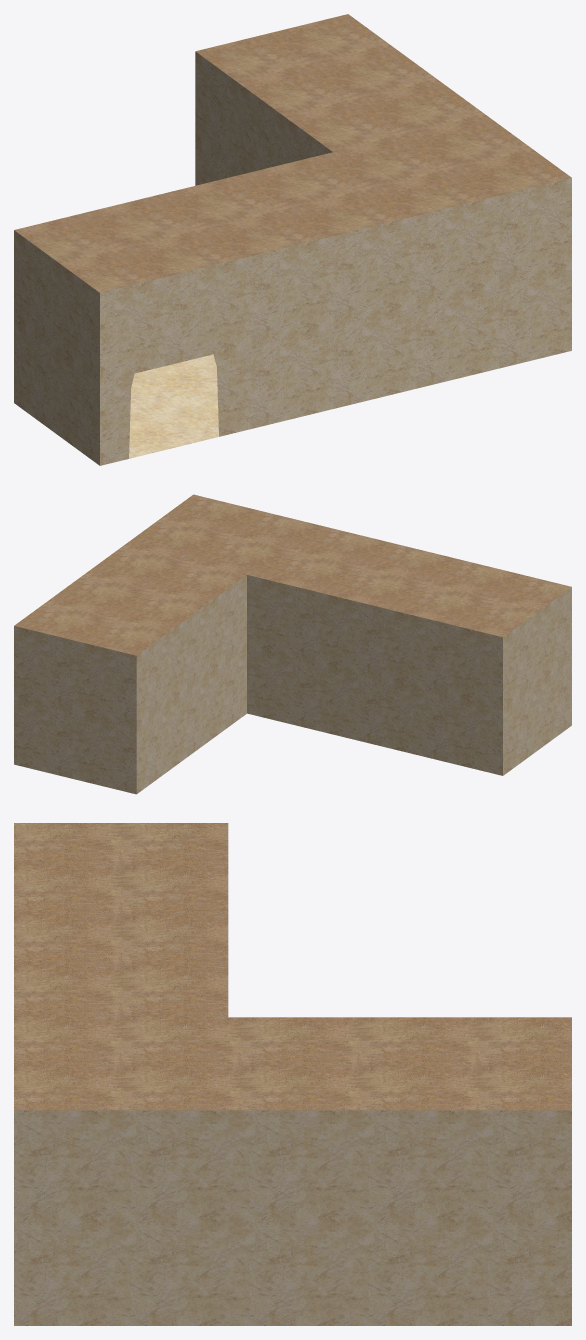
The model's file is thm_tato_block_bldg_64x32_s01_r2_foyerb_mesh_foyerb.fbx.
3 renders of one model, top to bottom at view 1: azimuth 30°, elevation 25°; view 2: azimuth 150°, elevation 25°; view 3: azimuth 270°, elevation 25°, orthographic. The views are drawn at different scales.
Visible parts, largest first — view 1: mesh_node; view 2: mesh_node; view 3: mesh_node.
Boxes of the visible parts, bbox=[...] form: mesh_node: bbox=[14, 14, 571, 465]; mesh_node: bbox=[14, 494, 571, 794]; mesh_node: bbox=[14, 823, 571, 1325].
Size of the model in its own units: 11.42 by 4 by 9.38.
